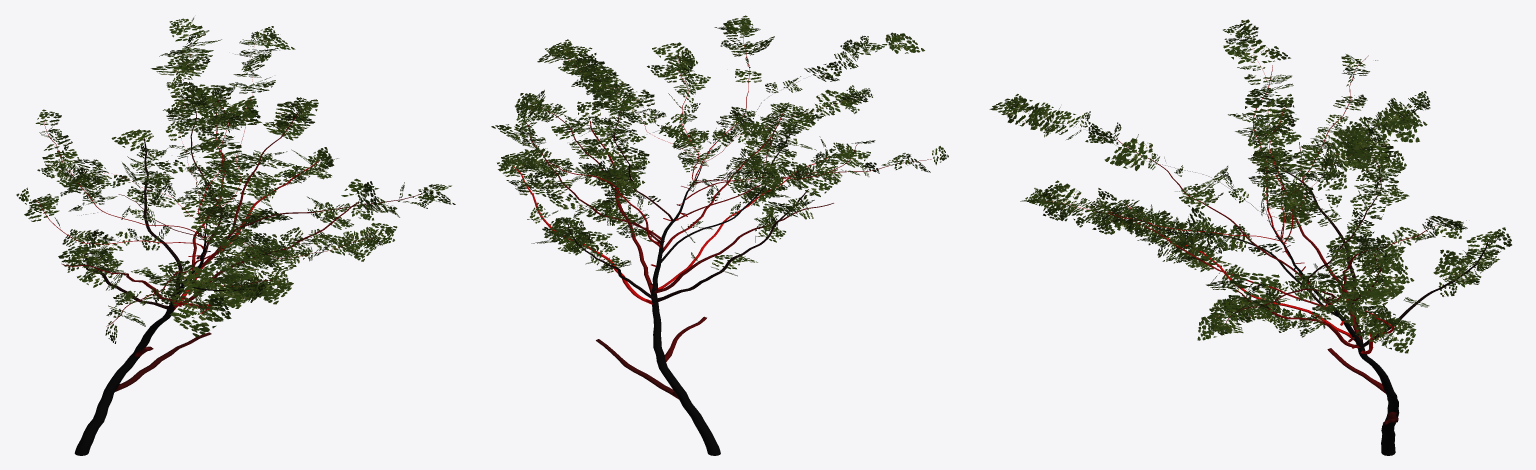
3 views of the same model, side by side, from view 1: azimuth 30°, elevation 25°; view 2: azimuth 150°, elevation 25°; view 3: azimuth 270°, elevation 25° (orthographic). The views are drawn at different scales.
Parts seen in each view (by area): view 1: Tree271; view 2: Tree271; view 3: Tree271.
Part boxes in pixels (left/top/right/bottom): Tree271: left=16, top=17, right=455, bottom=455; Tree271: left=491, top=15, right=948, bottom=455; Tree271: left=989, top=19, right=1511, bottom=455.
Size of the model in its own units: 13 by 12 by 14.
